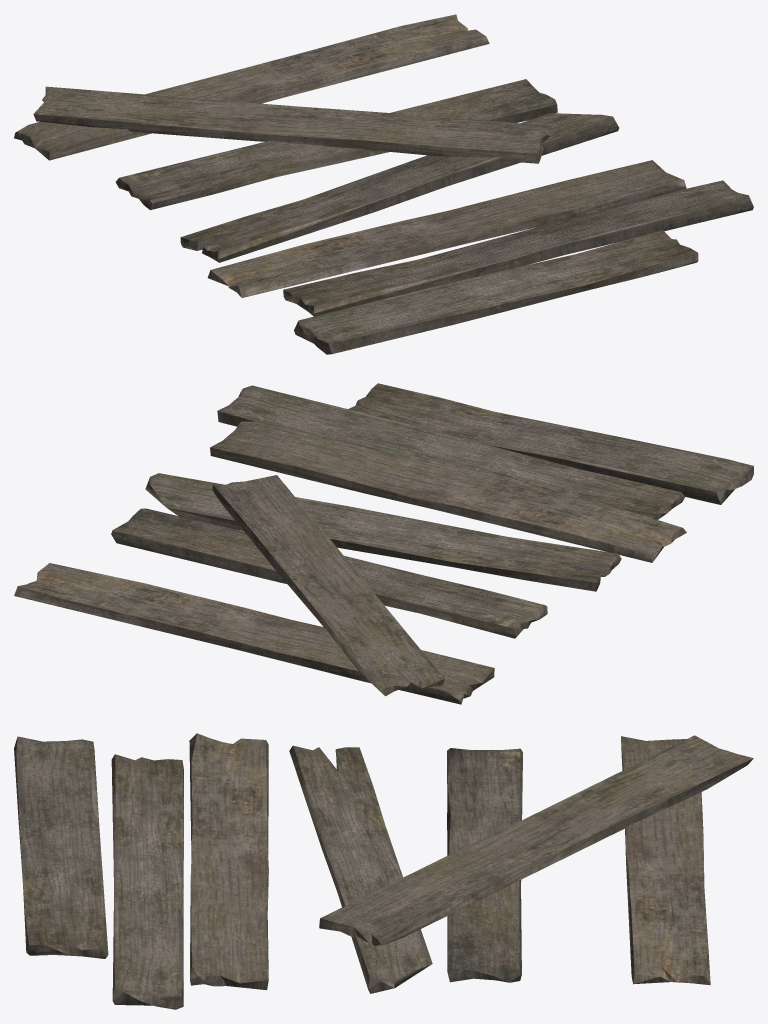
Rendered from SM_Wood_deco_Box025.fbx.
3 renders of one model, top to bottom at view 1: azimuth 30°, elevation 25°; view 2: azimuth 150°, elevation 25°; view 3: azimuth 270°, elevation 25°, orthographic. The views are drawn at different scales.
Visible parts, largest first — view 1: SM_Wood_deco_Box025_LOD0; view 2: SM_Wood_deco_Box025_LOD0; view 3: SM_Wood_deco_Box025_LOD0.
Boxes of the visible parts, x1,y1,x2,y2 form: SM_Wood_deco_Box025_LOD0: (14,14,753,354); SM_Wood_deco_Box025_LOD0: (14,383,753,704); SM_Wood_deco_Box025_LOD0: (14,733,753,1009).
Bounding box in the file's own units: 192 × 230 × 9.27.
